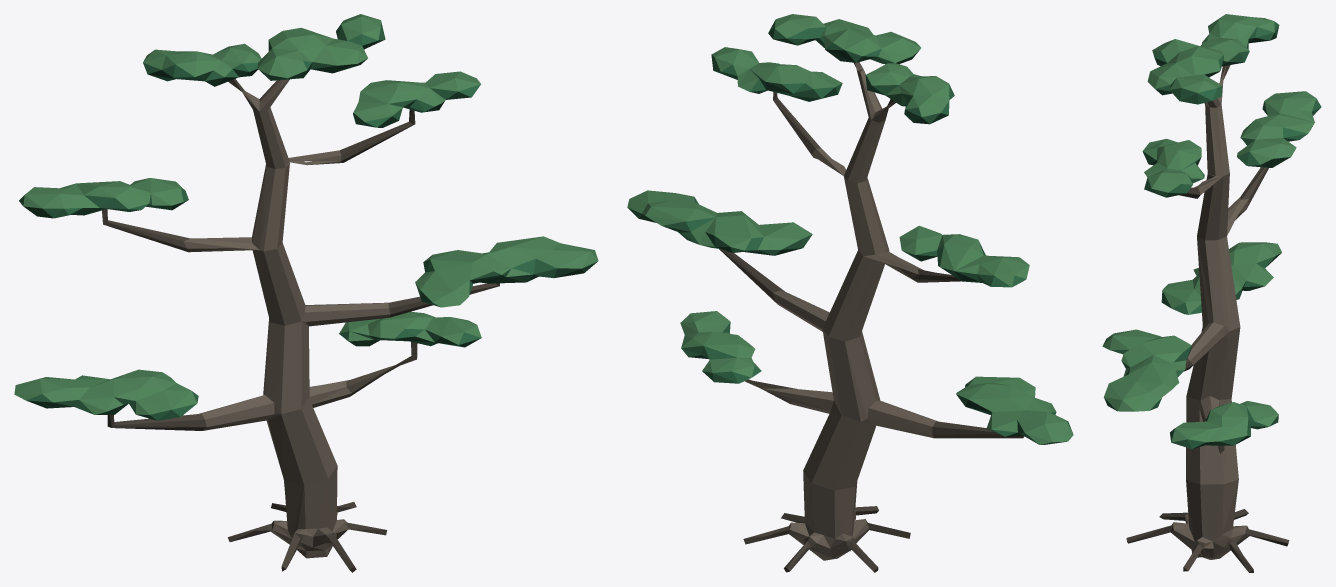
File: ancient-pine-2180-lod2.glb
3 renders of one model, left to right at view 1: azimuth 30°, elevation 25°; view 2: azimuth 150°, elevation 25°; view 3: azimuth 270°, elevation 25°, orthographic. The views are drawn at different scales.
Visible parts, largest first — view 1: n12.006, n8.006, n9.006, n11.006, n10.006; view 2: n12.006, n8.006, n11.006, n9.006, n10.006; view 3: n12.006, n8.006, n11.006, n9.006, n10.006.
Part boxes in pixels (x1=…): n12.006: x1=14, y1=14, x2=598, y2=414; n8.006: x1=183, y1=79, x2=390, y2=558; n9.006: x1=102, y1=79, x2=499, y2=572; n11.006: x1=19, y1=21, x2=557, y2=420; n10.006: x1=24, y1=39, x2=597, y2=420; n12.006: x1=627, y1=14, x2=1073, y2=444; n8.006: x1=760, y1=62, x2=937, y2=560; n11.006: x1=627, y1=20, x2=1072, y2=436; n9.006: x1=719, y1=62, x2=1024, y2=572; n10.006: x1=639, y1=38, x2=1066, y2=444; n12.006: x1=1102, y1=14, x2=1316, y2=442; n8.006: x1=1171, y1=66, x2=1249, y2=559; n11.006: x1=1110, y1=21, x2=1321, y2=448; n9.006: x1=1126, y1=65, x2=1289, y2=572; n10.006: x1=1104, y1=30, x2=1312, y2=448.
Size of the model in its own units: 5.48 by 5.42 by 2.16.
